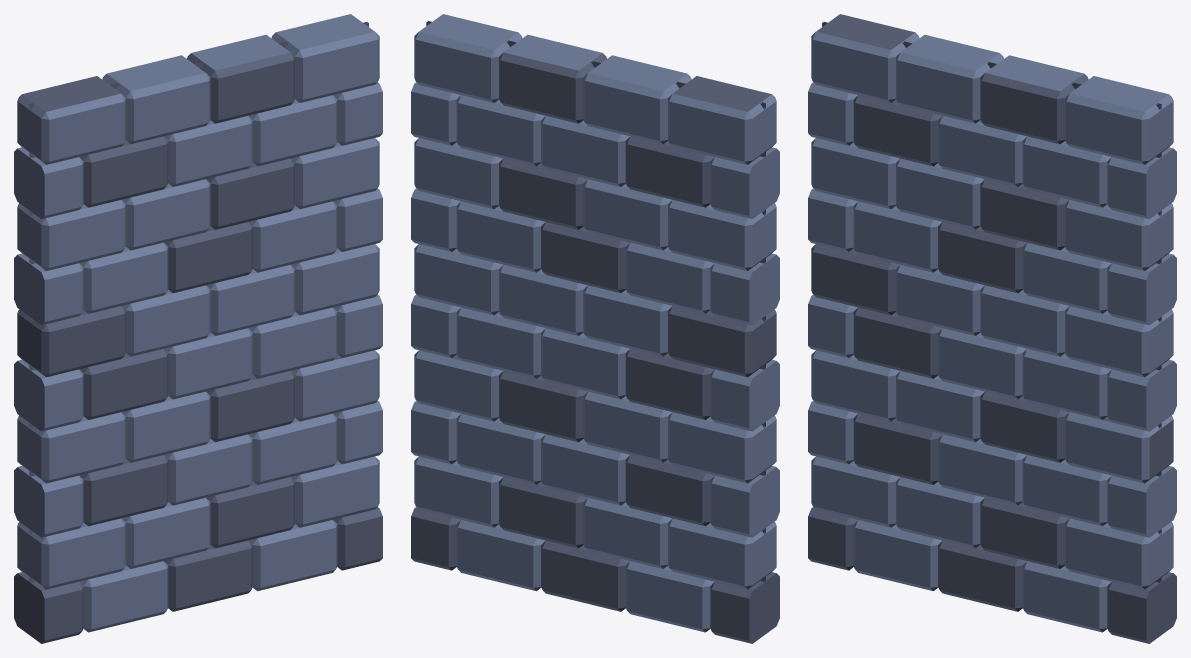
File: wall.glb
The picture shows the model from 3 angles, left to right: view 1: azimuth 30°, elevation 25°; view 2: azimuth 150°, elevation 25°; view 3: azimuth 330°, elevation 25°; orthographic projection.
Parts seen in each view (by area): view 1: wall; view 2: wall; view 3: wall.
Part boxes in pixels (x1,y1,x2,y2): wall: (14,14,382,643); wall: (411,14,779,643); wall: (808,14,1176,643).
Size of the model in its own units: 2 by 3 by 0.3126.
